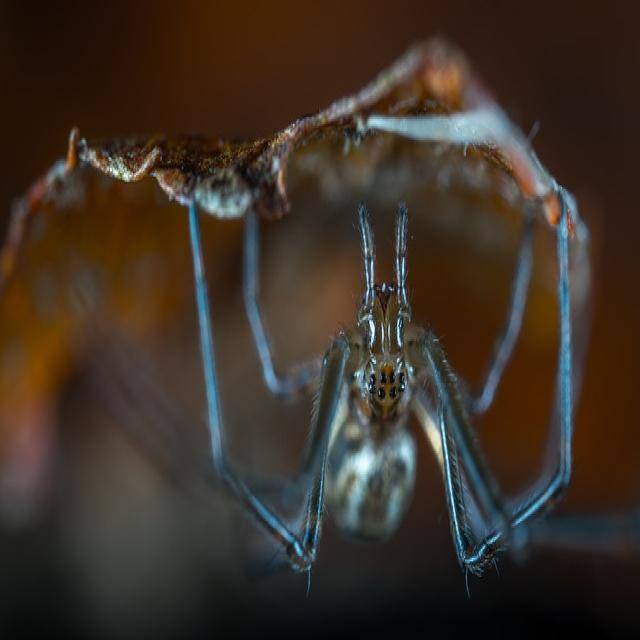spyder: (241, 201, 571, 573), (245, 210, 311, 393)
